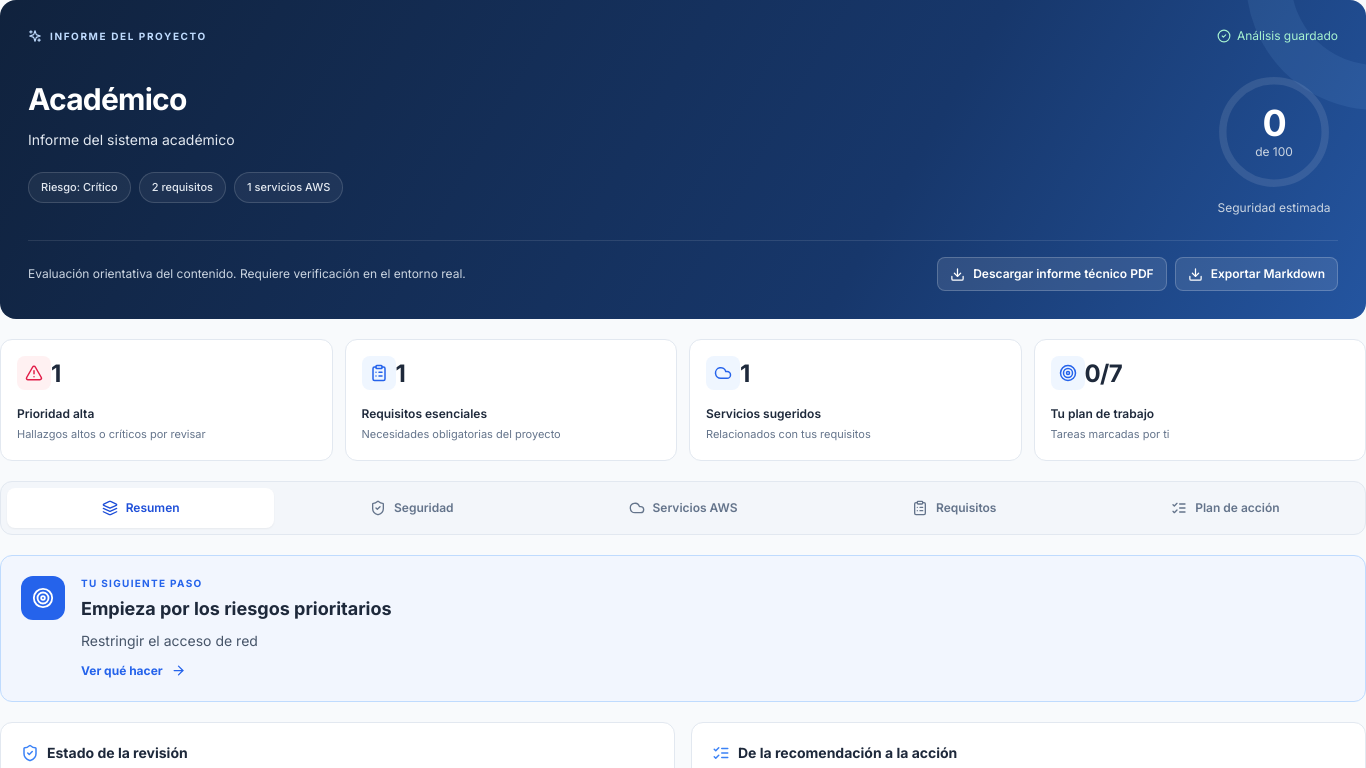
Test: informe y acciones del proyecto › muestra la relación entre servicio y requisito, y permite buscar requisitos
Click the tab "Servicios AWS". click: click(683, 508)
box: [549,488,817,528]
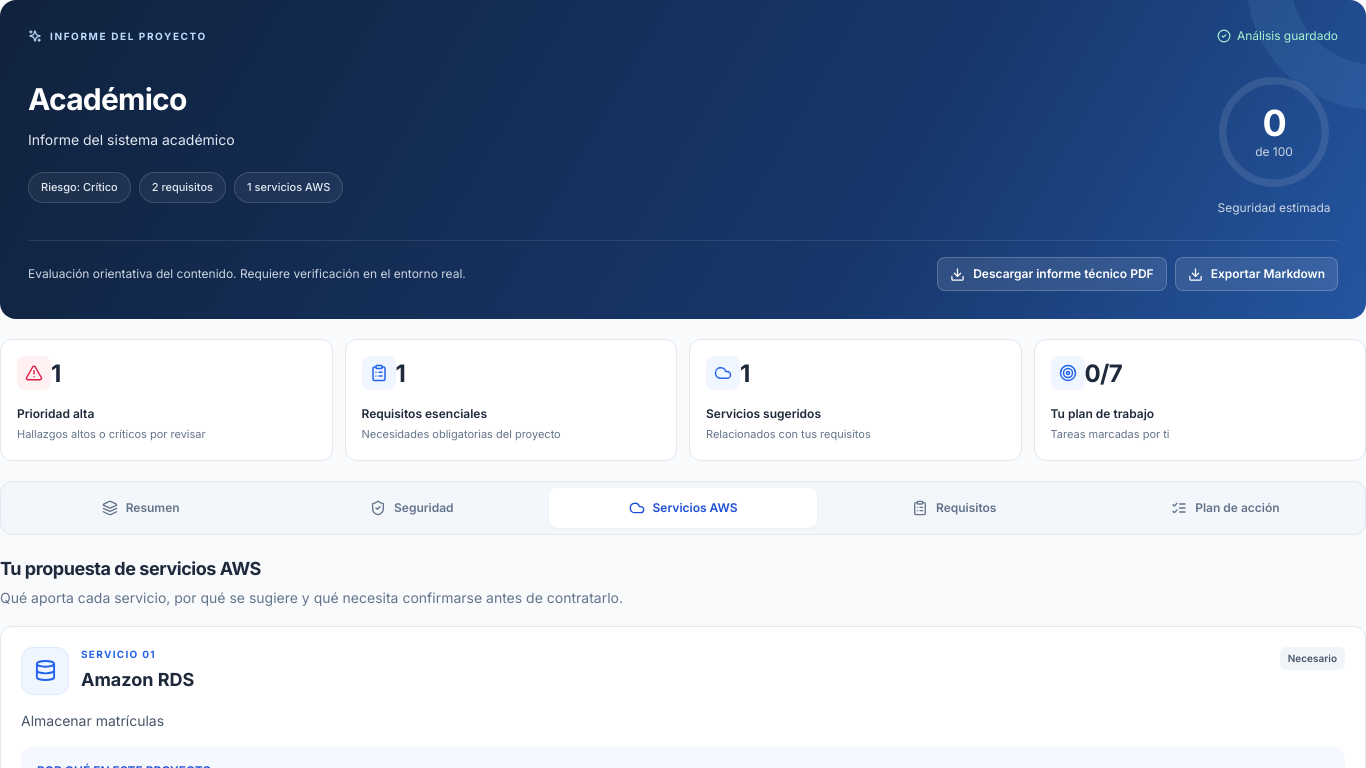
Click the tab "Requisitos". click: click(954, 508)
box: [821,488,1088,528]
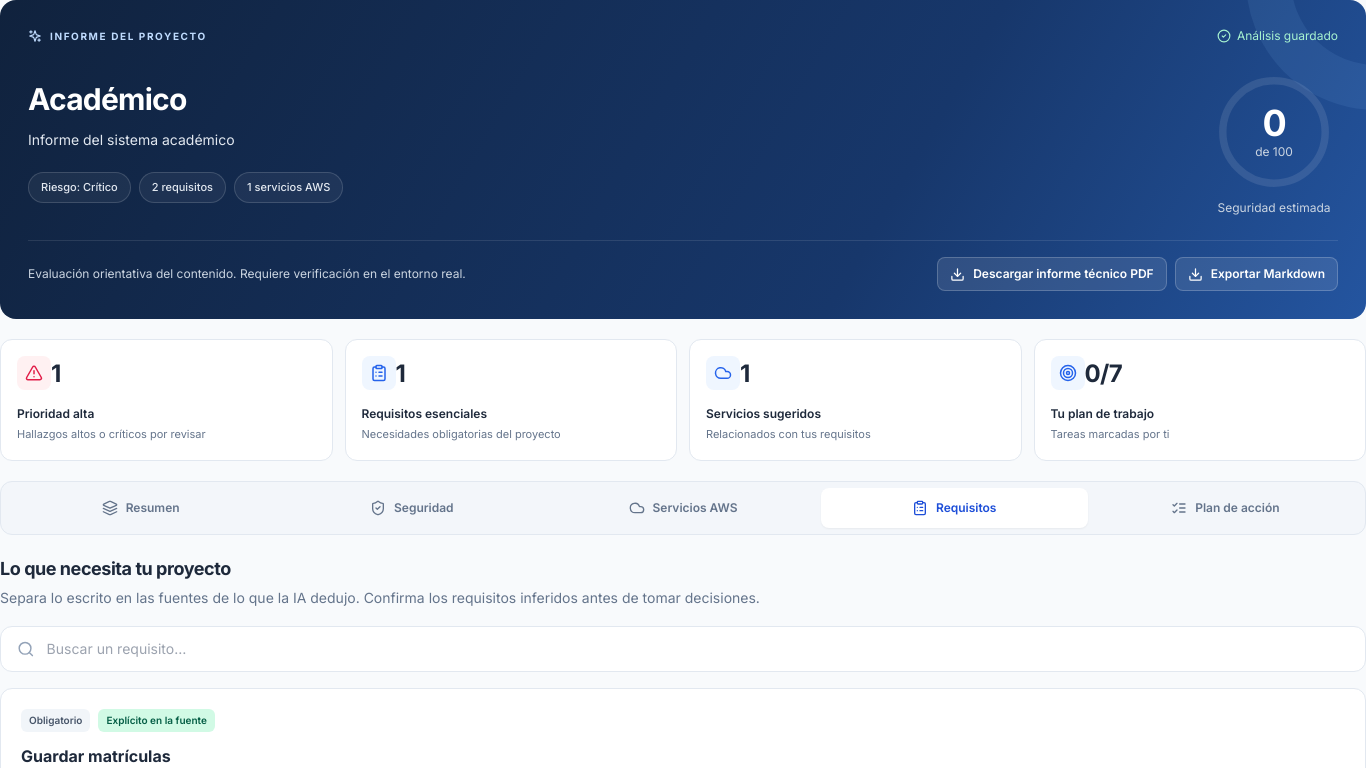
Type "copias" into the field named "Buscar requisitos". click: (698, 649)
box: [47,639,1349,659]
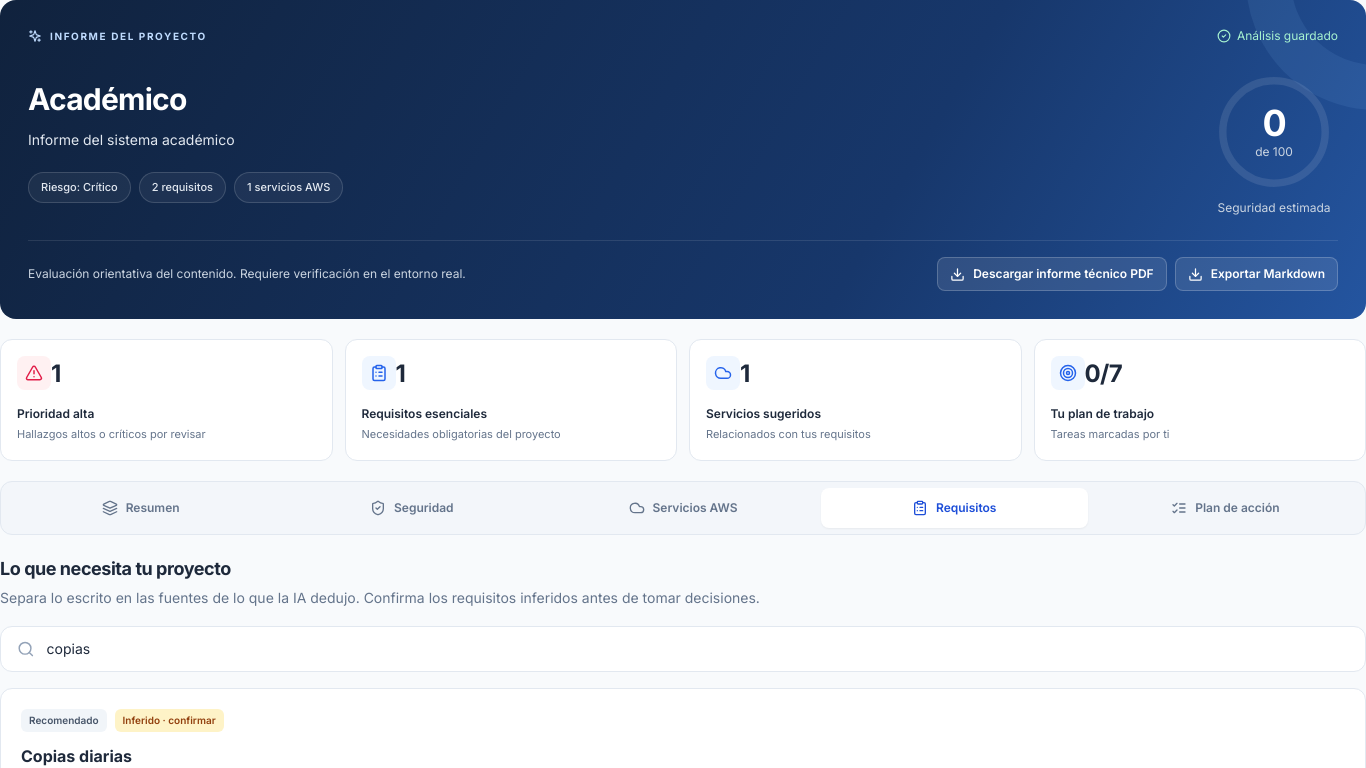
Check: the heading "Copias diarias" is shown, box [21,746,132,766]
Check: the text "Inferido · confirmar" is shown, box [115,709,224,732]
Check: the heading "Guardar matrículas" is gone
